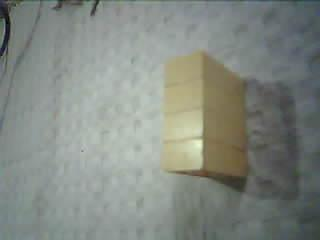lego: (154, 51, 250, 184)
